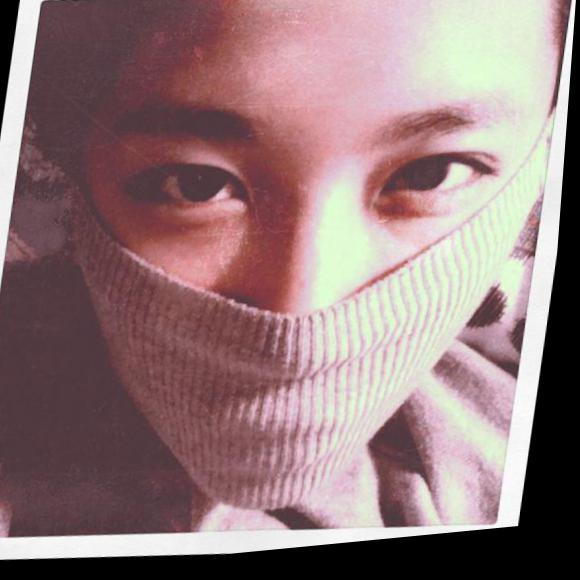WRONG: (55, 28, 559, 540)
